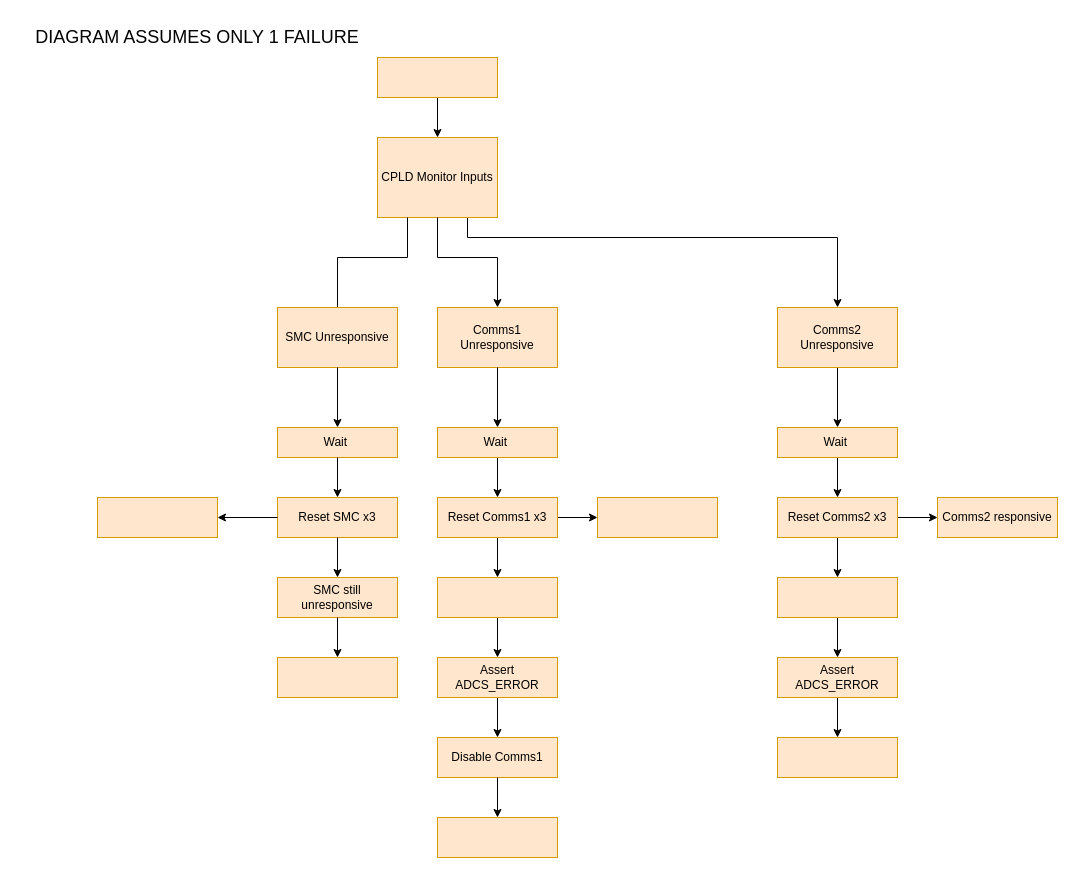
Image size: 1075x875. Some labels were removed from this diagram. Here are the shapes that lost their labels. From the top down, the centre of each, then its label:
At pixel 437 77: "ADCS ONLINE + Power Good".
At pixel 157 517: "SMC responsive".
At pixel 657 517: "Comms1 responsive".
At pixel 497 597: "Comms1 still unresponsive".
At pixel 837 597: "Comms2 still unresponsive".
At pixel 337 677: "Assert ADCS_FAILURE".
At pixel 837 757: "Disable Comms2".
At pixel 497 837: "Switch antenna control to Comms2".
